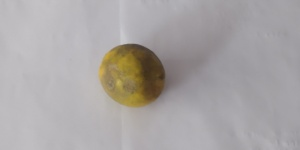BAD: (98, 39, 170, 107)
